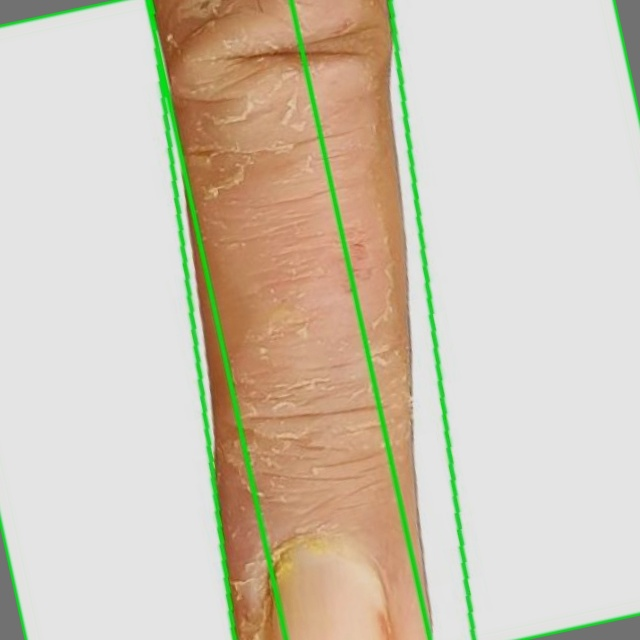Eczema: (291, 0, 639, 639), (150, 0, 474, 639), (0, 0, 285, 639)
